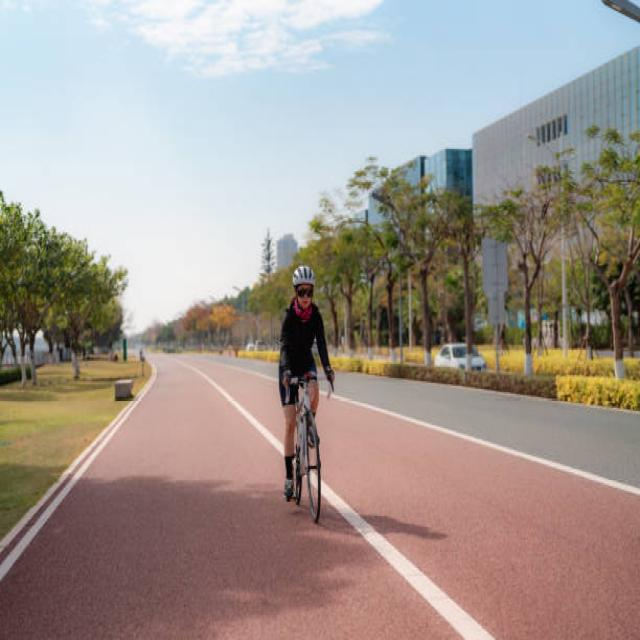bicycle: (279, 266, 334, 522)
